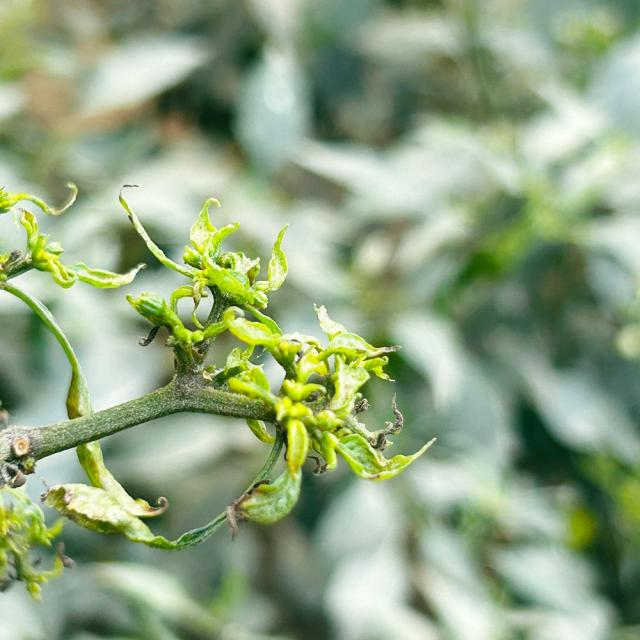Chilli_Leaf_Curl: (1, 180, 437, 595)
